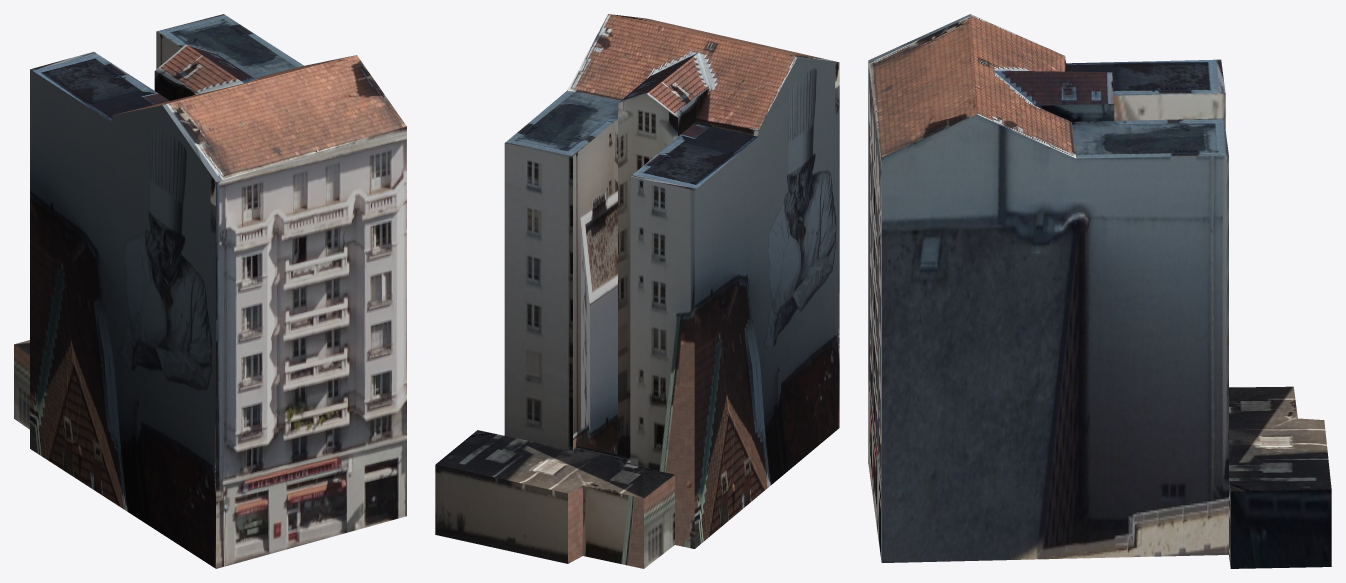
The picture shows the model from 3 angles, left to right: view 1: azimuth 30°, elevation 25°; view 2: azimuth 150°, elevation 25°; view 3: azimuth 270°, elevation 25°; orthographic projection. The views are drawn at different scales.
Visible parts, largest first — view 1: Z_UP; view 2: Z_UP; view 3: Z_UP.
Boxes of the visible parts, x1,y1,x2,y2 form: Z_UP: [14, 14, 406, 568]; Z_UP: [435, 14, 839, 568]; Z_UP: [868, 14, 1331, 568].
Size of the model in its own units: 16.58 by 30.2 by 28.4.
2 materials, 1 textured.
